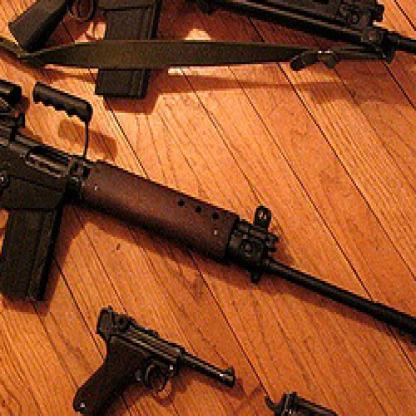gun: (70, 305, 235, 414), (198, 387, 403, 414)
